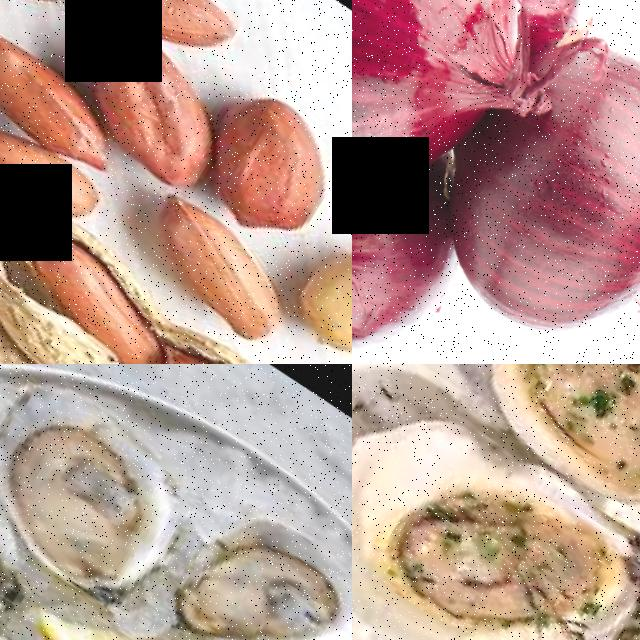lemon: (27, 567, 223, 640)
onion: (430, 4, 640, 364), (352, 0, 582, 235), (352, 102, 478, 364)
oysters: (369, 422, 640, 640), (0, 364, 217, 615), (166, 479, 352, 640), (481, 364, 640, 493), (0, 417, 55, 640)
peanuts: (124, 179, 317, 351), (194, 69, 352, 250), (88, 28, 252, 197), (5, 218, 193, 364), (0, 19, 141, 179), (0, 93, 120, 241), (52, 0, 247, 73), (139, 331, 334, 364)
